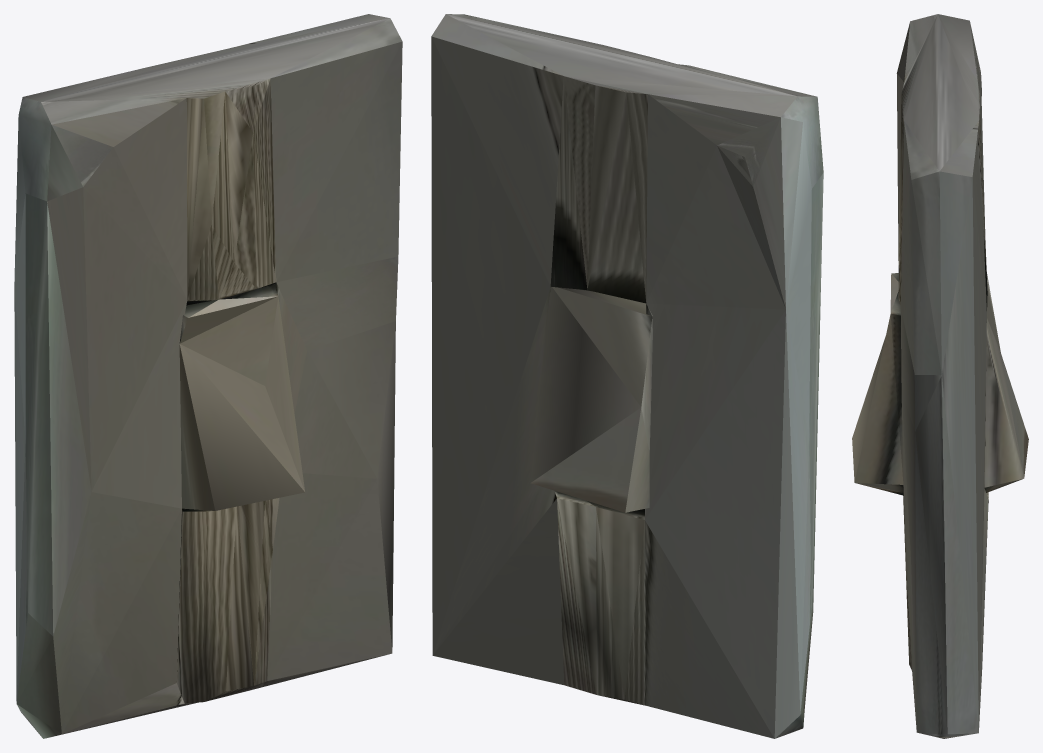
The model's file is light switch.fbx.
The picture shows the model from 3 angles, left to right: view 1: azimuth 30°, elevation 25°; view 2: azimuth 150°, elevation 25°; view 3: azimuth 270°, elevation 25°; orthographic projection. The views are drawn at different scales.
Parts seen in each view (by area): view 1: tripo_node_4e3fc253; view 2: tripo_node_4e3fc253; view 3: tripo_node_4e3fc253.
Part boxes in pixels (bbox=[...]): tripo_node_4e3fc253: bbox=[14, 14, 402, 738]; tripo_node_4e3fc253: bbox=[431, 14, 823, 738]; tripo_node_4e3fc253: bbox=[852, 14, 1028, 738].
Bounding box in the file's own units: 58.97 × 97.82 × 27.07.
